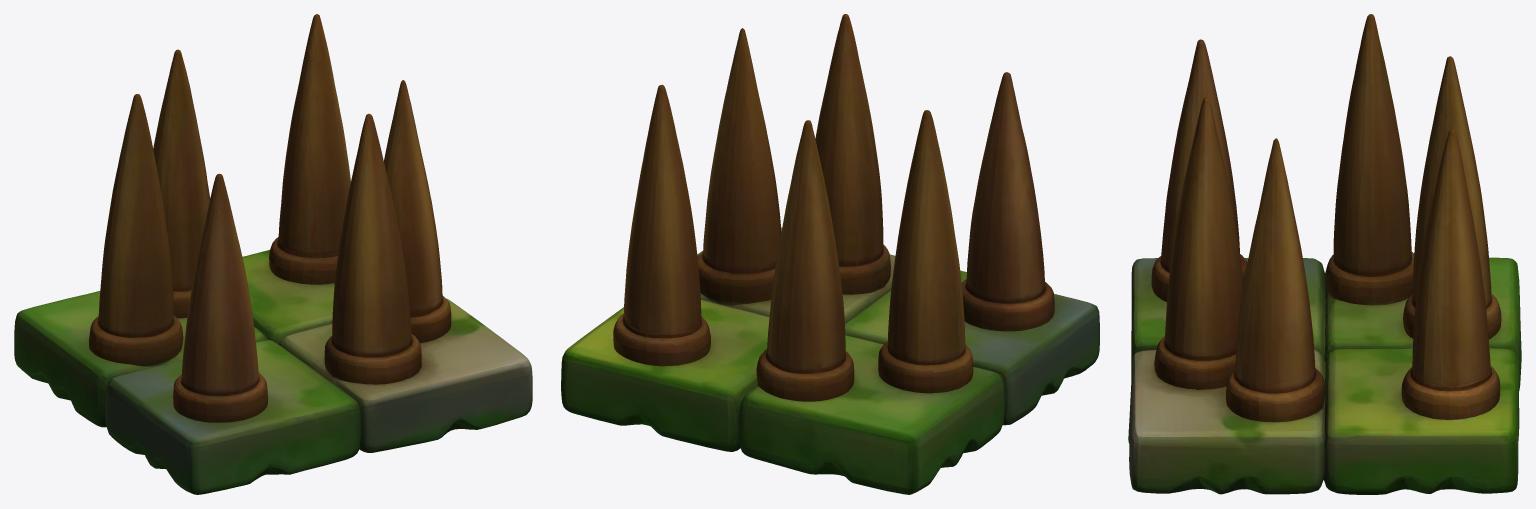
Rendered from spikes.glb.
The picture shows the model from 3 angles, left to right: view 1: azimuth 30°, elevation 25°; view 2: azimuth 150°, elevation 25°; view 3: azimuth 270°, elevation 25°; orthographic projection. The views are drawn at different scales.
Parts seen in each view (by area): view 1: world; view 2: world; view 3: world.
Part boxes in pixels (box(x1,y1,x2,y2)): world: box(14, 14, 532, 494); world: box(561, 14, 1099, 494); world: box(1128, 14, 1521, 494).
Bounding box in the file's own units: 0.9991 × 0.8594 × 0.9162.
Materials: 1 (1 with a texture image).
